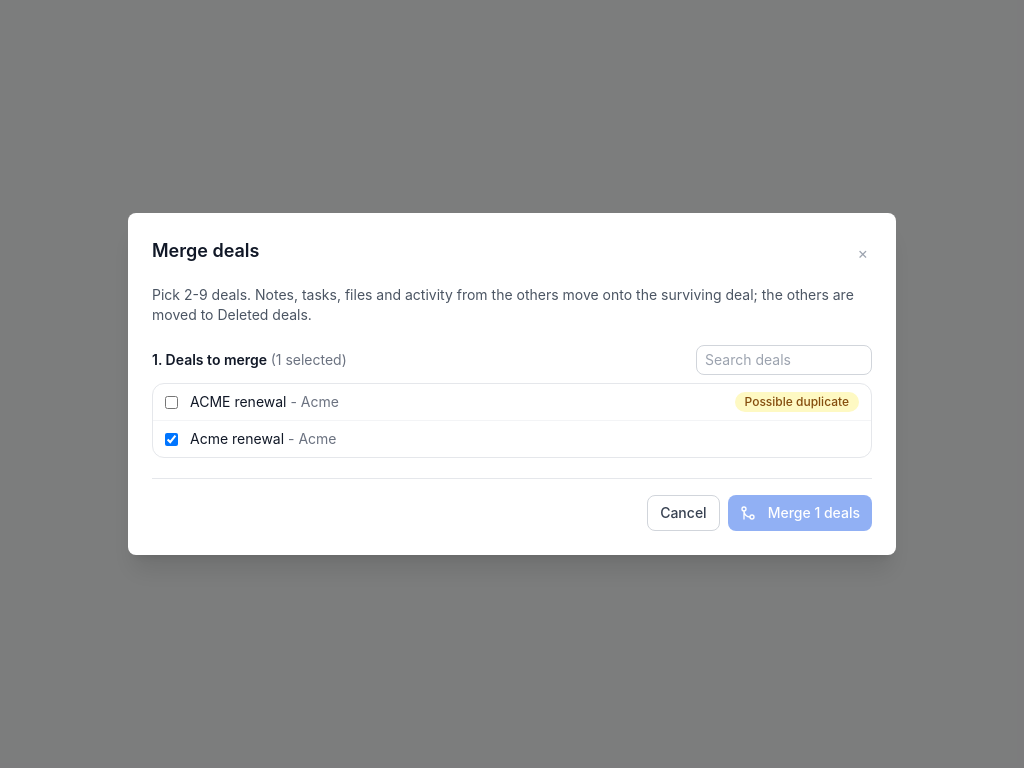
it: MergeDealsModal › flags the duplicate, shows conflicts and requires 2+ deals
Expected: the text "Possible duplicate" is shown, [734,392,859,412]
Expected: the button "Merge 1 deals" is disabled, [728,495,872,531]
Click the checkbox named "Select ACME renewal": (172, 402) [165,396,178,408]
(page scrolled)
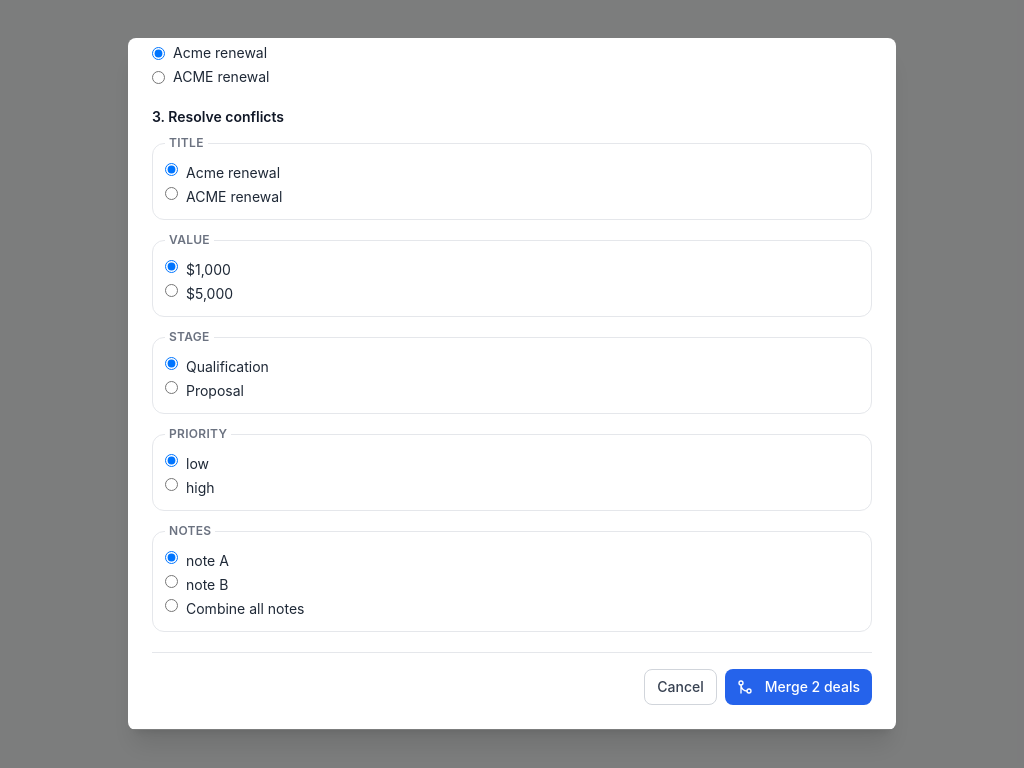
Expected: the button "Merge 2 deals" is enabled, [725,669,872,705]
